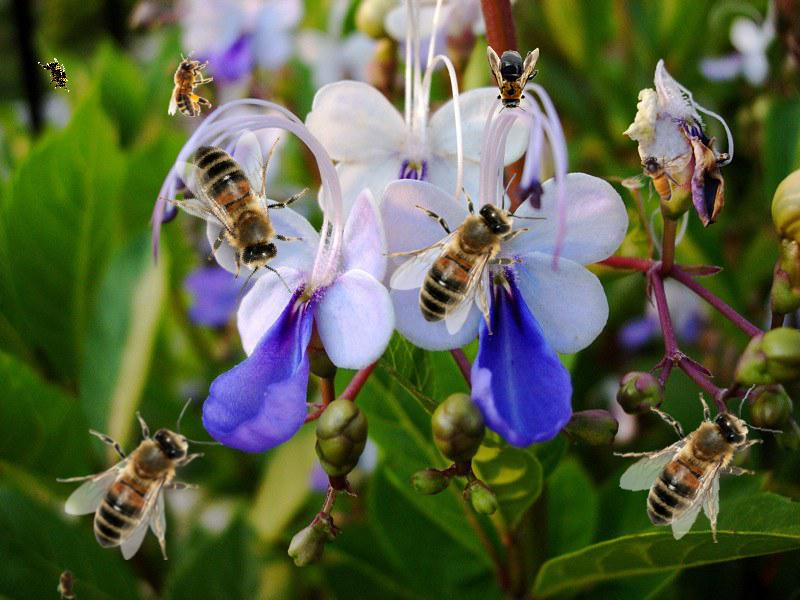Bee: (132, 99, 353, 323), (606, 372, 787, 548), (56, 398, 223, 560), (381, 173, 548, 335), (621, 152, 692, 202), (487, 46, 539, 114), (168, 51, 213, 117), (37, 52, 77, 98), (57, 564, 79, 600)
